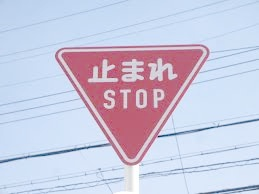Regulatory_sign_triangle: (42, 36, 218, 168)
